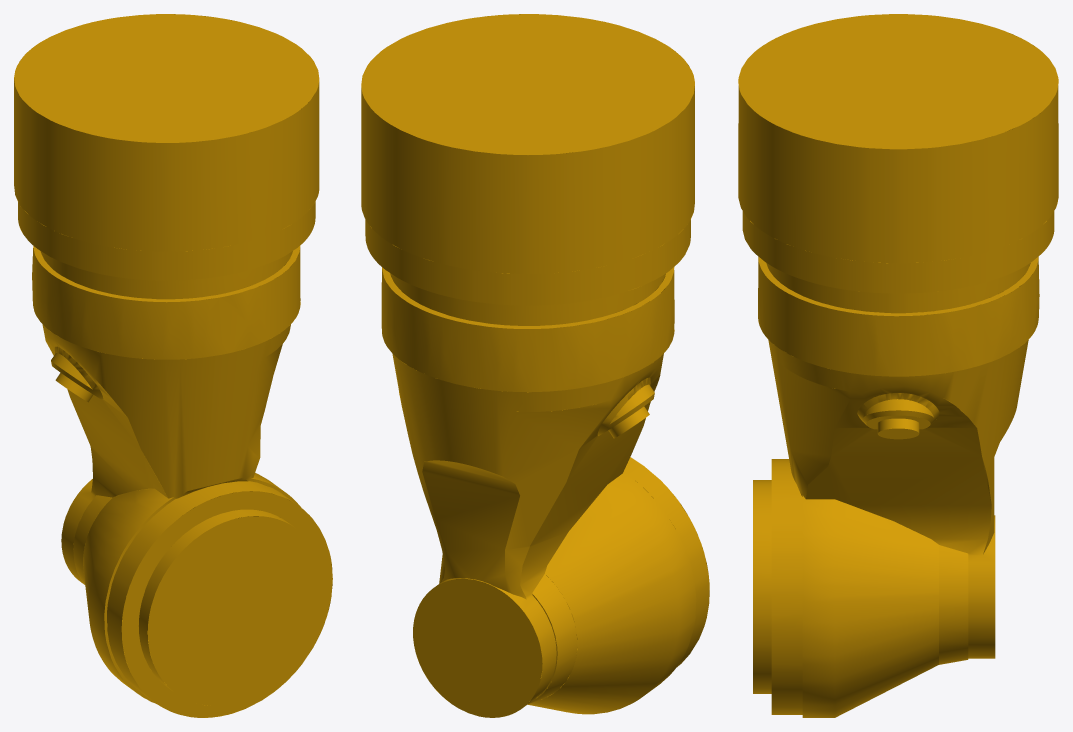
The picture shows the model from 3 angles, left to right: view 1: azimuth 30°, elevation 25°; view 2: azimuth 150°, elevation 25°; view 3: azimuth 270°, elevation 25°; orthographic projection. The views are drawn at different scales.
Parts seen in each view (by area): view 1: Link-4; view 2: Link-4; view 3: Link-4.
Boxes of the visible parts, x1=… form: Link-4: x1=14, y1=14, x2=332, y2=717; Link-4: x1=361, y1=14, x2=709, y2=717; Link-4: x1=738, y1=14, x2=1058, y2=717.
Bounding box in the file's own units: 0.1539 × 0.154 × 0.3309.
